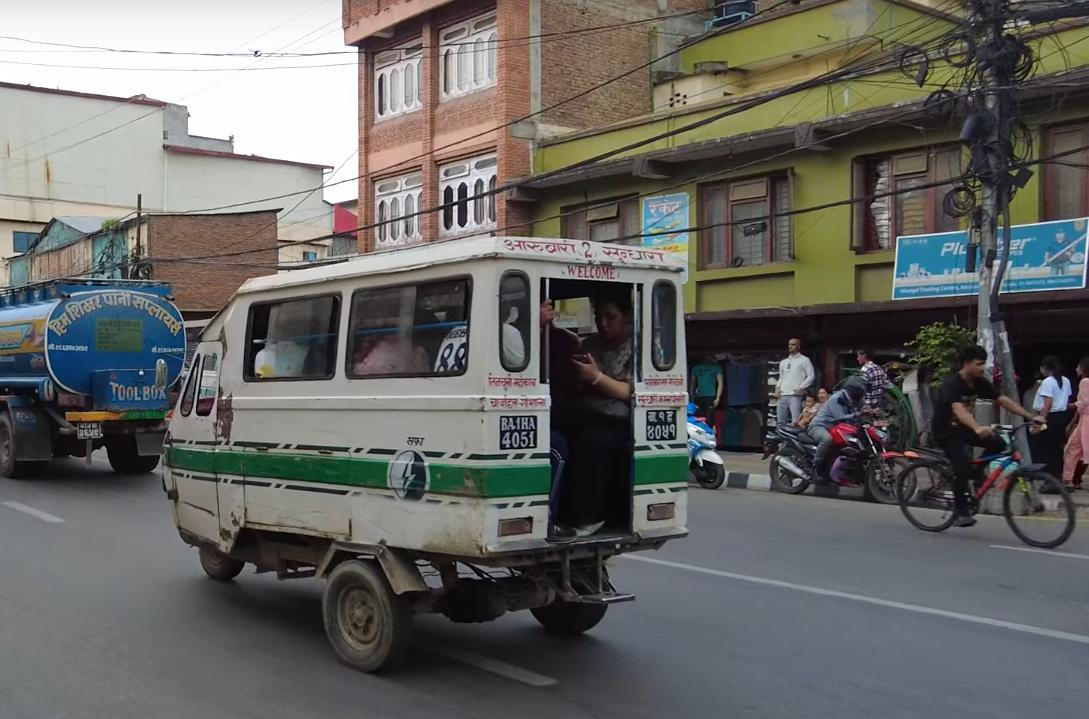tempo: (156, 230, 706, 672)
